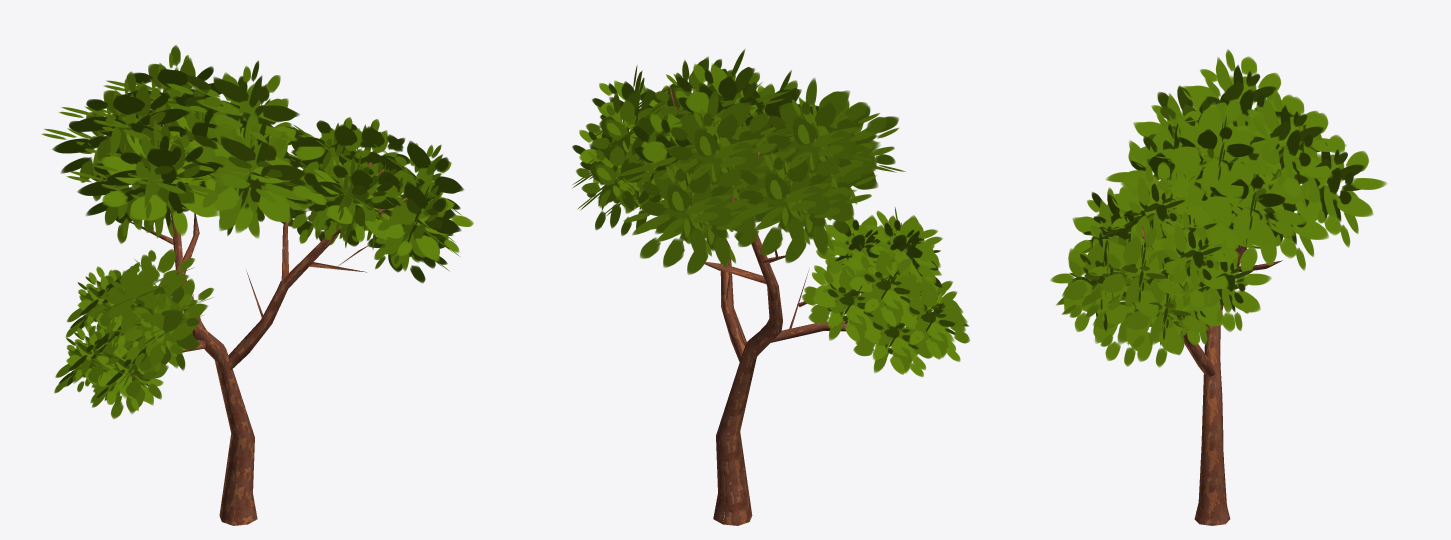
The model's file is tree (640 fc).glb.
3 views of the same model, side by side, from view 1: azimuth 30°, elevation 25°; view 2: azimuth 150°, elevation 25°; view 3: azimuth 270°, elevation 25° (orthographic). The views are drawn at different scales.
Parts seen in each view (by area): view 1: bush.001, bush.003, bush.002, DeadTree_10; view 2: bush.001, bush.002, bush.003, DeadTree_10; view 3: bush.001, bush.003, DeadTree_10.
Part boxes in pixels (bbox=[...]): bush.001: bbox=[41, 45, 325, 243]; bush.003: bbox=[283, 117, 473, 283]; bush.002: bbox=[54, 249, 213, 418]; DeadTree_10: bbox=[128, 124, 406, 525]; bush.001: bbox=[615, 49, 905, 274]; bush.002: bbox=[802, 207, 969, 376]; bush.003: bbox=[572, 56, 762, 235]; DeadTree_10: bbox=[669, 86, 847, 525]; bush.001: bbox=[1105, 49, 1387, 286]; bush.003: bbox=[1050, 161, 1271, 367]; DeadTree_10: bbox=[1107, 160, 1282, 525].
Size of the model in its own units: 8.03 by 8.54 by 7.36.
4 materials, 4 textured.
